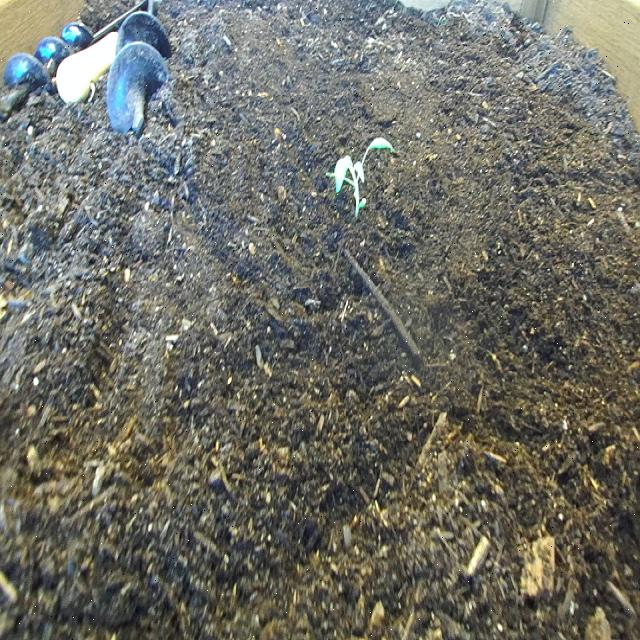Healthy: (319, 104, 398, 238)
